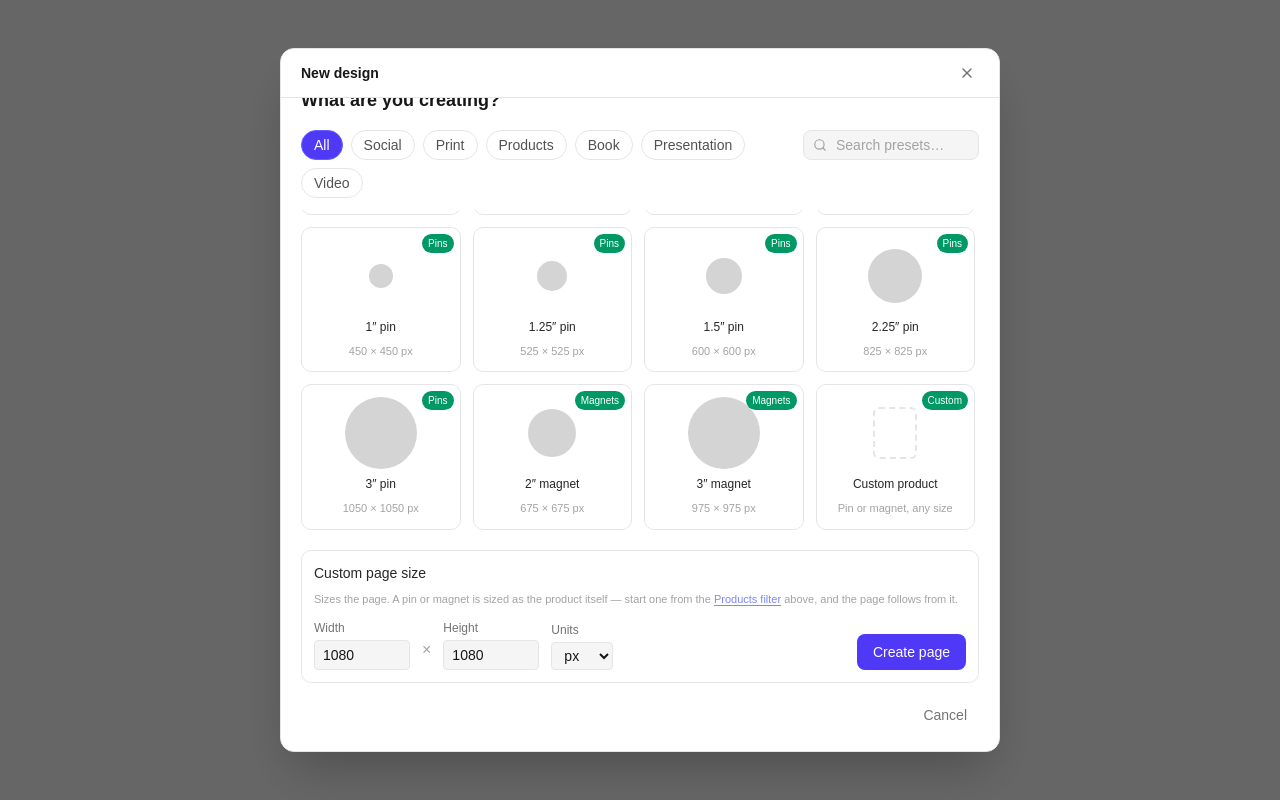
NewDesignModal — print products › shows product setup above the page-size box, each naming what it makes
(page scrolled)
Step 1. Click the text "2″ magnet" → coordinates (552, 484), box [525,477,579,492]
(page scrolled)
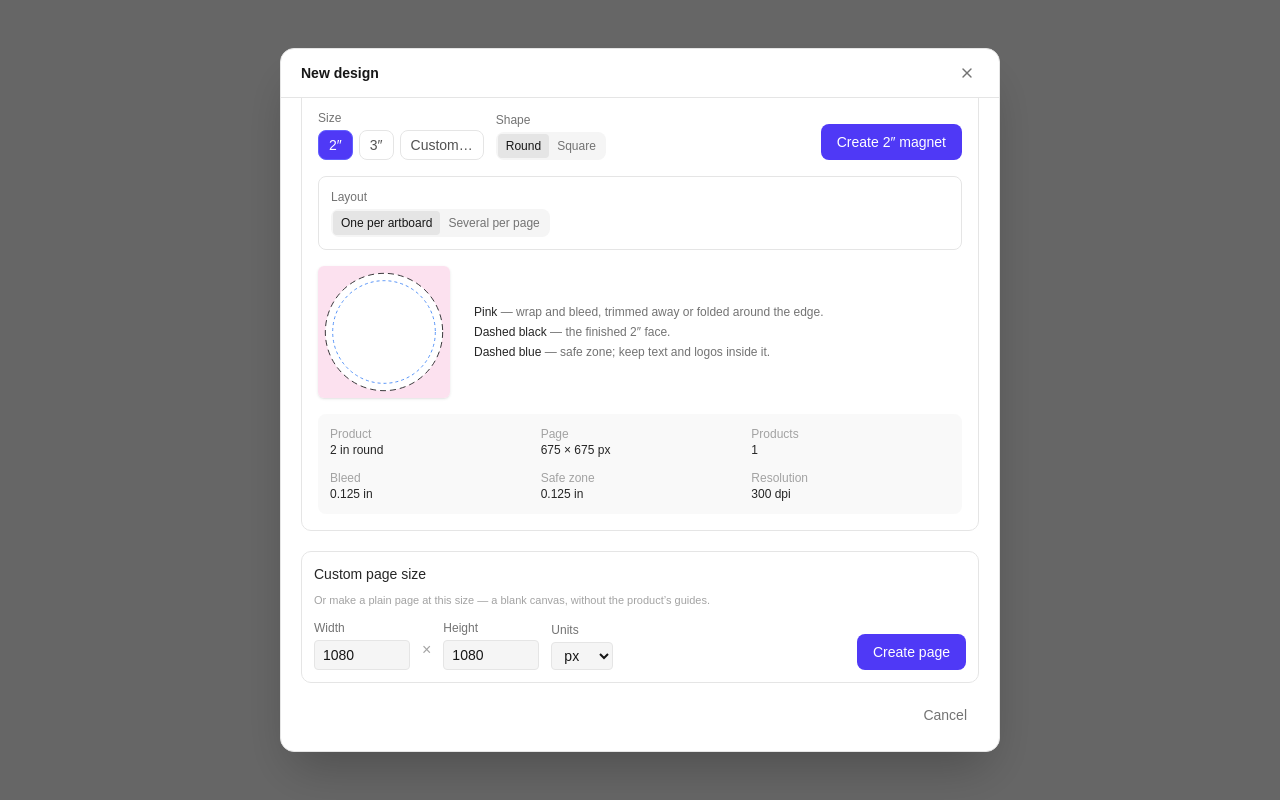
Expected: the text "Custom page size" is shown, [314,566,426,582]
Now the button "Create 2″ magnet" is shown, box [821,124,962,160]
Now the text "Or make a plain page at this size" is shown, box [314,594,606,606]
